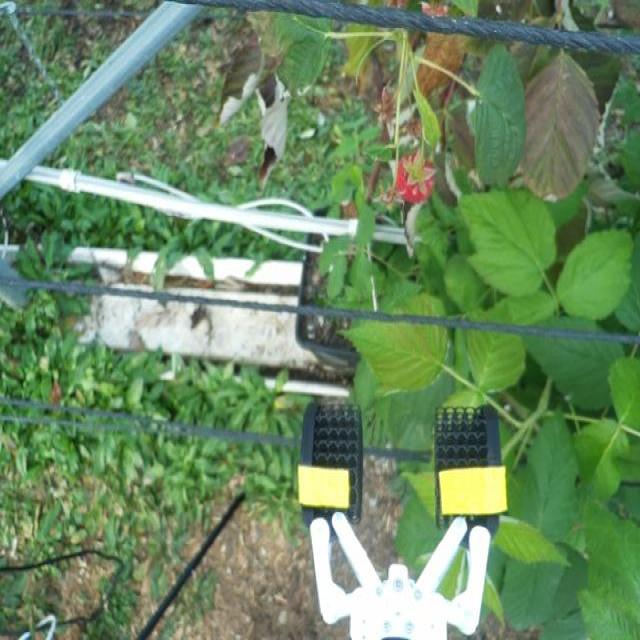Riped berries: (391, 148, 437, 205)
